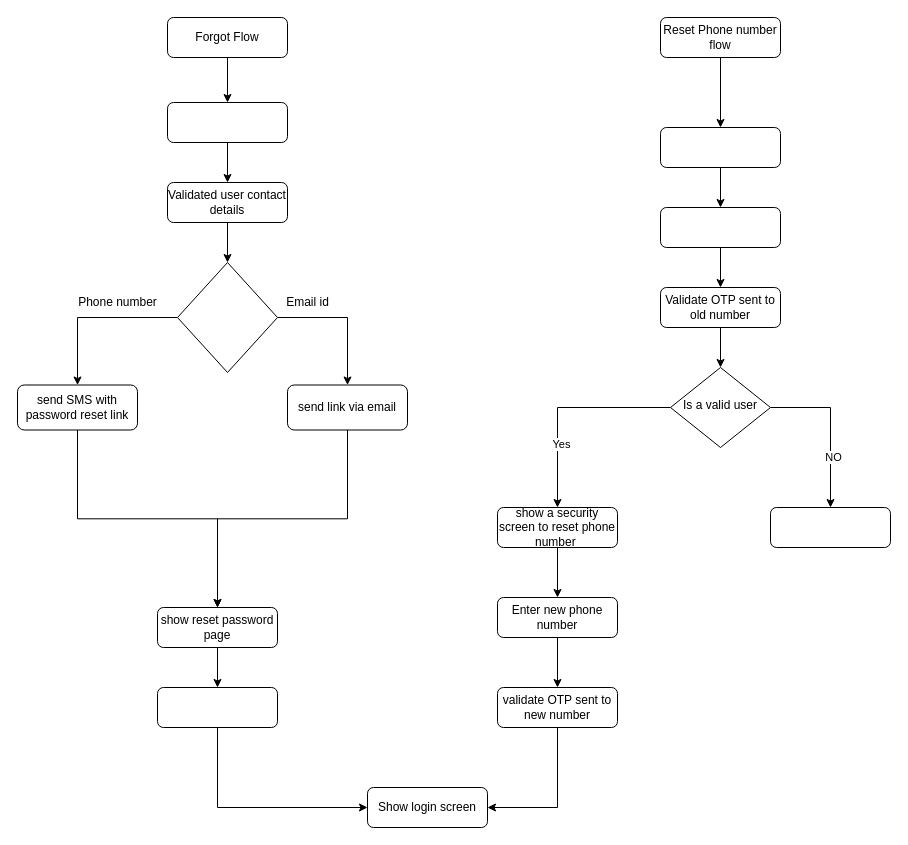
The diagram is 908 pixels wide and 845 high, and some of its shapes have lost their labels. The centre of each missing label's shape, as x and y in pixels:
check type of userid: the point at 227,317
Forgot password: the point at 227,122
Reset with new phone number: the point at 720,147
Show invalid user details screen: the point at 830,527
Show reset successful page: the point at 217,707
Verify old number details: the point at 720,227
